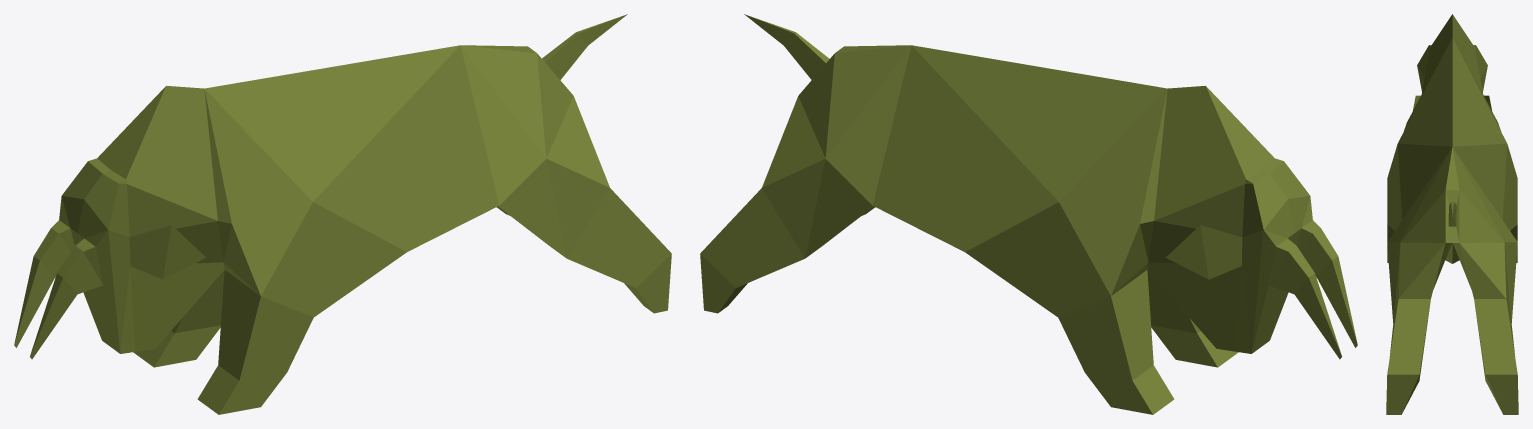
3 views of the same model, side by side, from view 1: azimuth 30°, elevation 25°; view 2: azimuth 150°, elevation 25°; view 3: azimuth 270°, elevation 25° (orthographic). The views are drawn at different scales.
Visible parts, largest first — view 1: Ox_Plane; view 2: Ox_Plane; view 3: Ox_Plane.
Boxes of the visible parts, x1,y1,x2,y2 form: Ox_Plane: [14, 14, 671, 414]; Ox_Plane: [700, 14, 1357, 414]; Ox_Plane: [1386, 14, 1518, 414].
Bounding box in the file's own units: 255 × 122 × 63.57.
